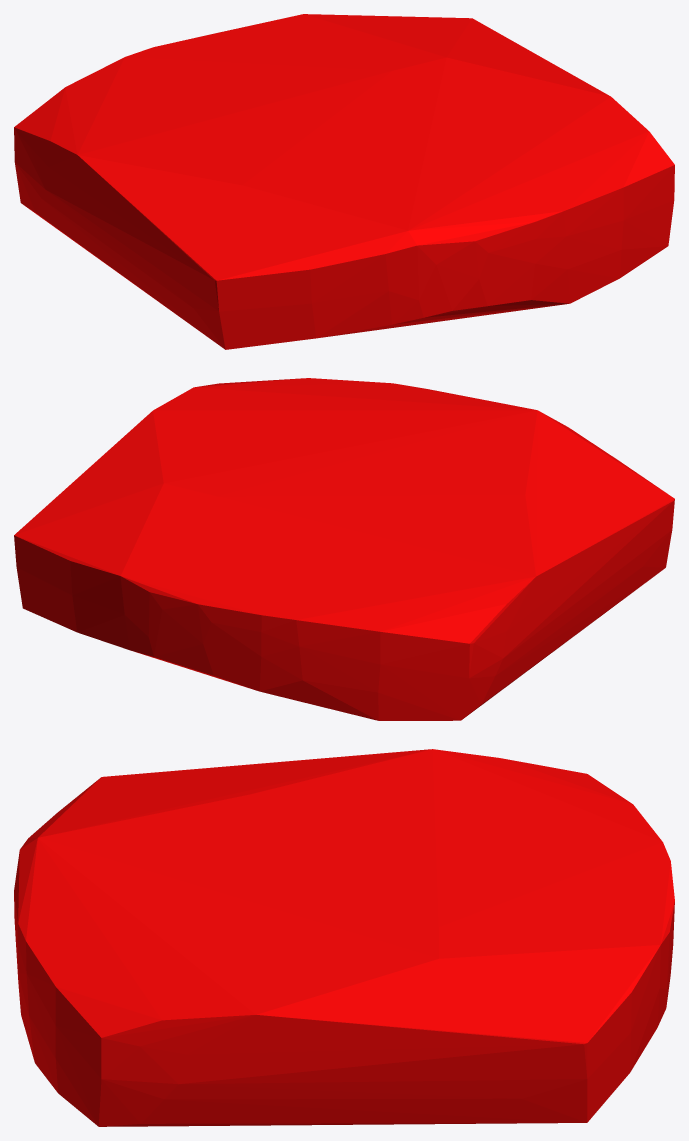
Rendered from wrist_pitch_0091_convex_hull_04.obj.
3 renders of one model, top to bottom at view 1: azimuth 30°, elevation 25°; view 2: azimuth 150°, elevation 25°; view 3: azimuth 270°, elevation 25°, orthographic. The views are drawn at different scales.
Visible parts, largest first — view 1: wrist_pitch_0091_convex_hull_04; view 2: wrist_pitch_0091_convex_hull_04; view 3: wrist_pitch_0091_convex_hull_04.
Part boxes in pixels (<box>): wrist_pitch_0091_convex_hull_04: <box>14,14,674,349</box>; wrist_pitch_0091_convex_hull_04: <box>14,378,674,720</box>; wrist_pitch_0091_convex_hull_04: <box>14,749,674,1126</box>.
Bounding box in the file's own units: 0.0609 × 0.014 × 0.0636.
